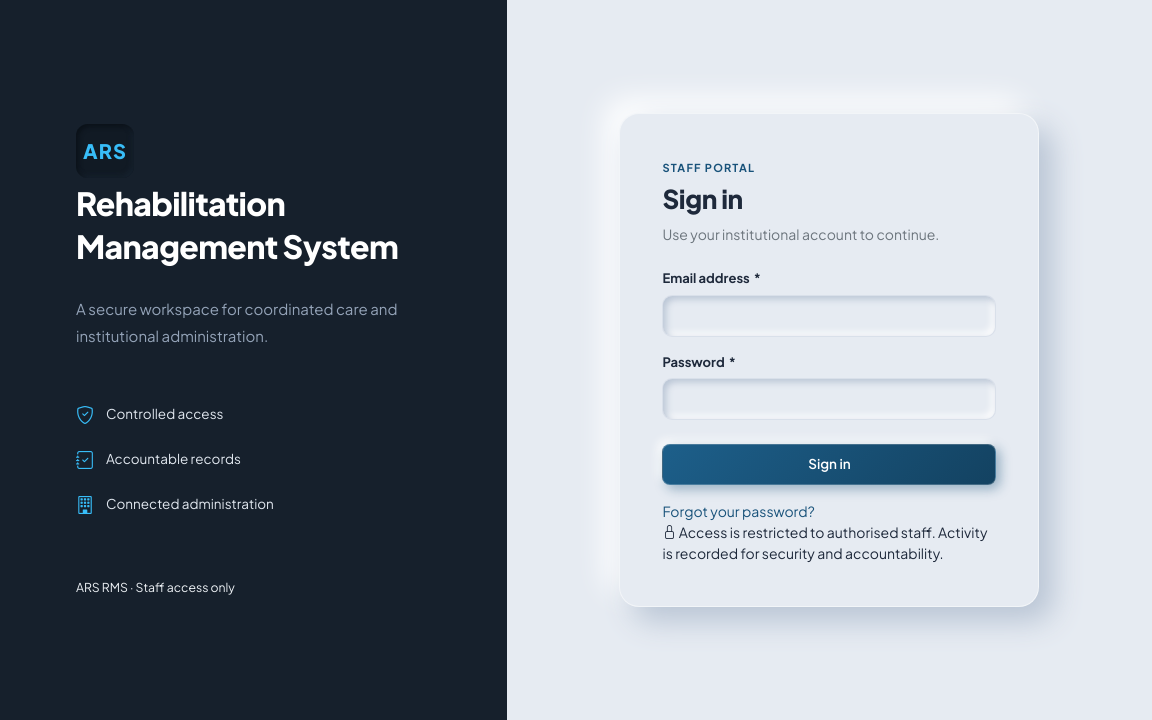
Scenario: Phase 1 workflows › shows a failed login error
This screenshot has width=1152, height=720.
Step 1. Type "staff@example.org" into the field labelled "Email address *" → coordinates (829, 316), box x1=662 y1=295 x2=996 y2=337
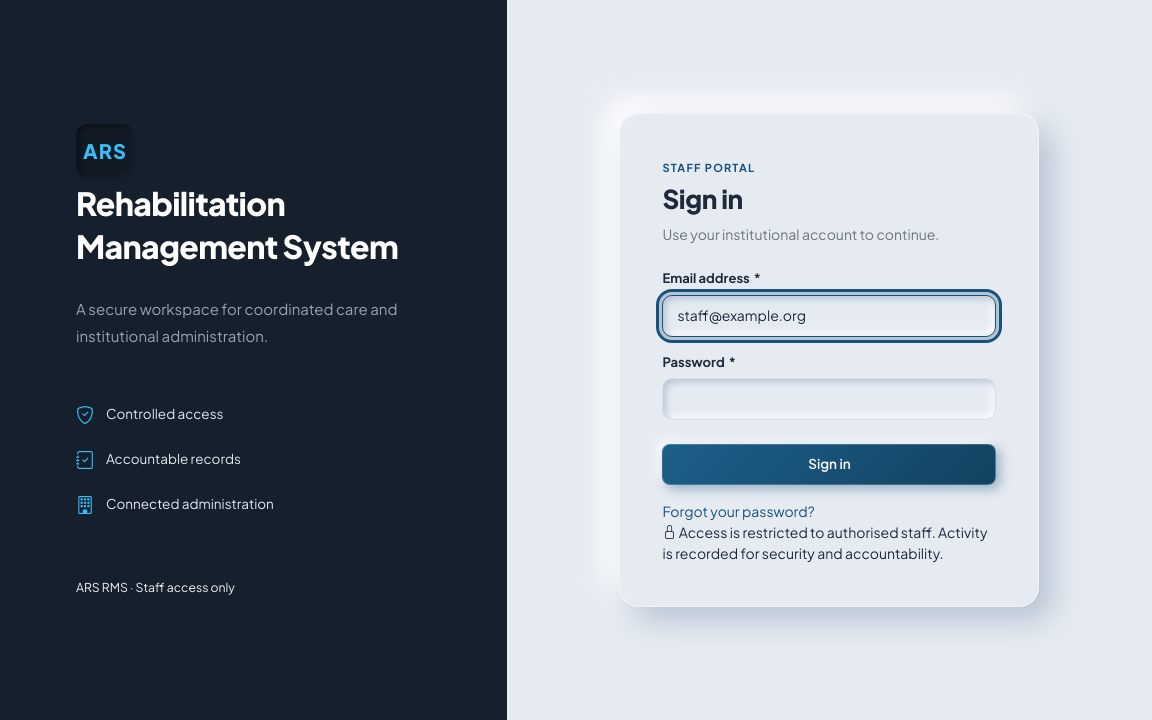
Step 2. Type "wrong" into the password field labelled "Password *" → coordinates (829, 400), box x1=662 y1=378 x2=996 y2=420
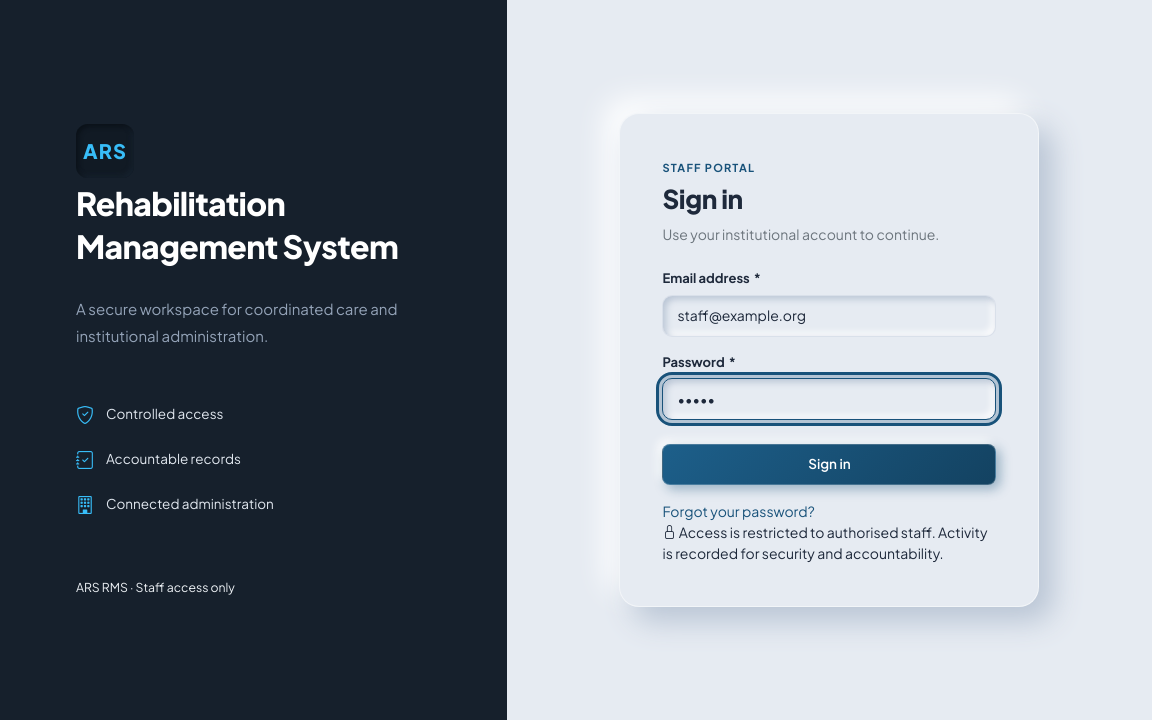
Step 3. Click the button "Sign in" → coordinates (829, 465), box x1=662 y1=444 x2=996 y2=485
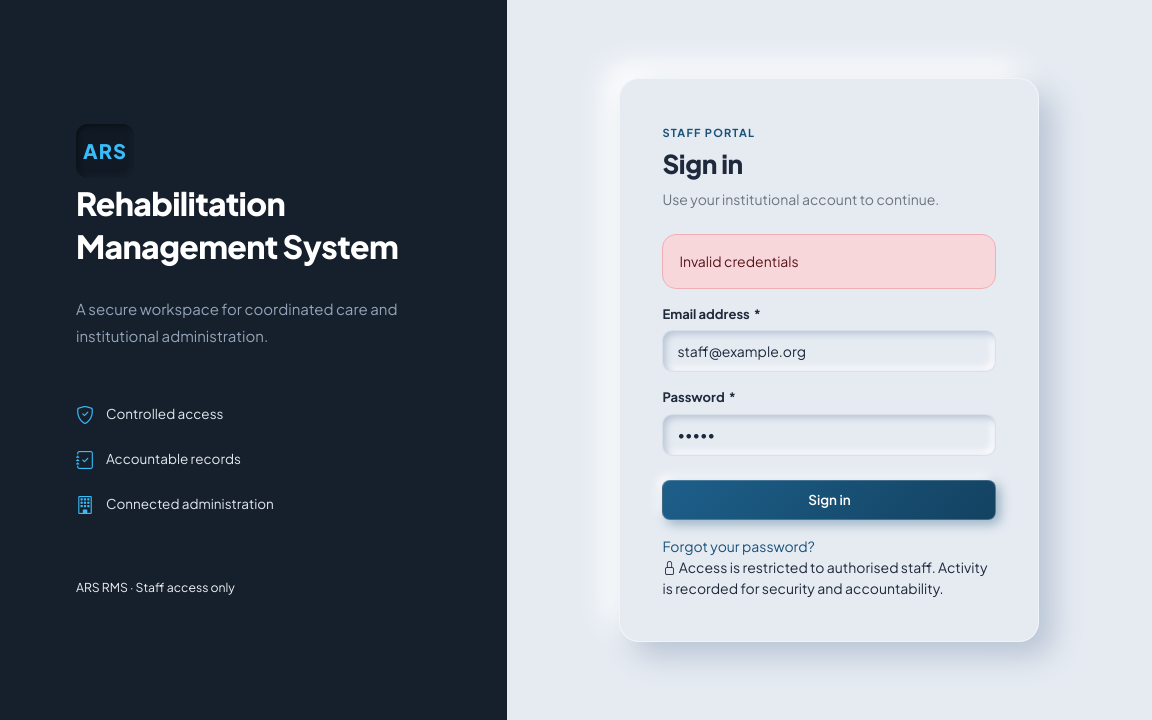
Expected: the message reads "Invalid credentials", x1=679 y1=252 x2=799 y2=270
